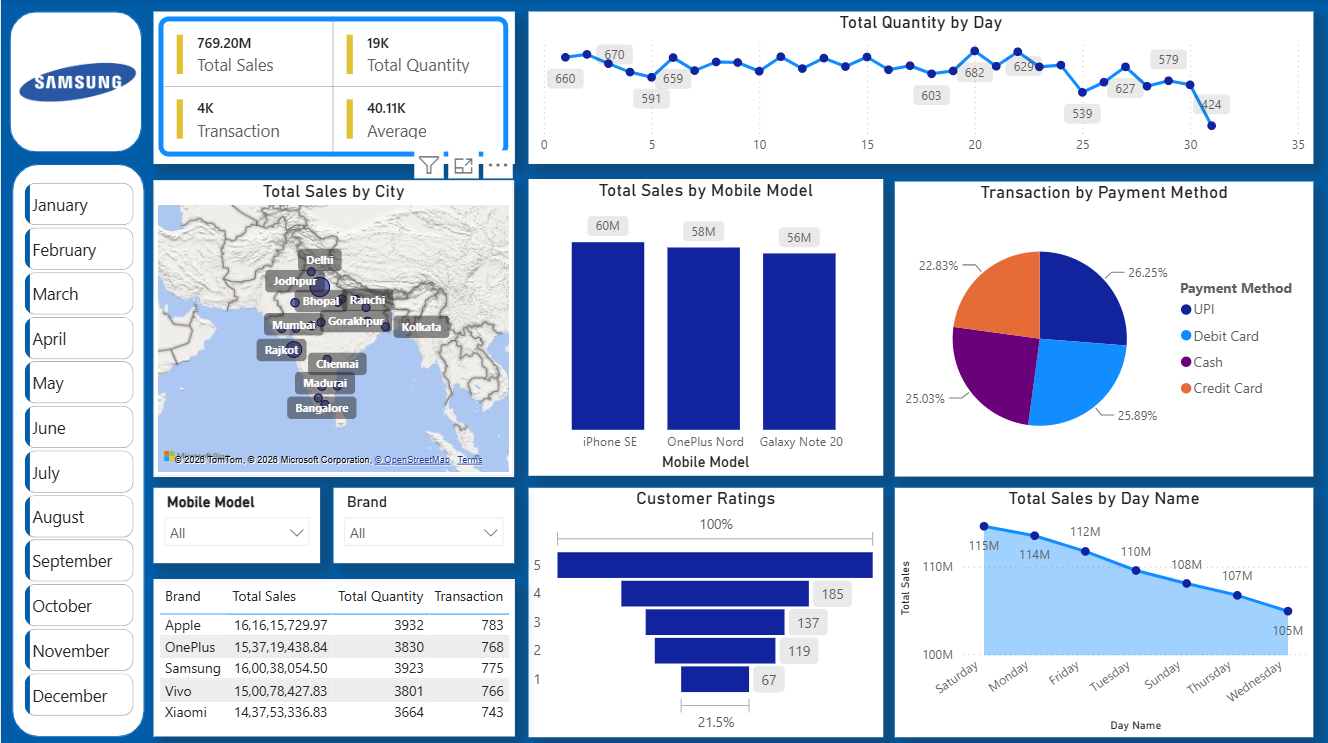

This screenshot's page, from the dashboard's own definition file:
{"tool":"powerbi","page":{"name":"Sales_Project","canvas":[1280,720],"ordinal":0},"visuals":[{"type":"shape","box":[8.2,12.3,127.6,135.8],"z":0},{"type":"shape","box":[11,159.2,127.6,553],"z":1000},{"type":"advancedSlicerVisual","fields":{"Values":["Sales_Project.Date.Variation.Date Hierarchy.Month"]},"box":[17.8,172.9,115.3,525.6],"z":2000},{"type":"cardVisual","fields":{"Data":["Sales_Project.Total Sales","Sales_Project.Total Quantity","Sales_Project.Transaction","Sales_Project.Average"]},"box":[146.8,12.3,348.5,146.8],"z":3000},{"type":"map","fields":{"Category":["Sales_Project.City"],"Size":["Sales_Project.Total Sales"]},"box":[147.1,174.6,347.9,286],"z":4000},{"type":"lineChart","fields":{"Y":["Sales_Project.Total Quantity"],"Category":["Sales_Project.Date.Variation.Date Hierarchy.Month","Sales_Project.Date.Variation.Date Hierarchy.Day"]},"box":[508.8,12.4,757.7,147.1],"z":5000},{"type":"clusteredColumnChart","fields":{"Category":["Sales_Project.Mobile Model"],"Y":["Sales_Project.Total Sales"]},"box":[508.8,173.3,342.4,286],"z":6000},{"type":"pieChart","fields":{"Category":["Sales_Project.Payment Method"],"Y":["Sales_Project.Transaction"]},"box":[862.2,176,404.3,284.7],"z":7000},{"type":"funnel","title":"Customer Ratings ","fields":{"Category":["Sales_Project.Customer Ratings"],"Y":["CountNonNull(Sales_Project.Customer Ratings)"]},"box":[508.8,471.7,342.4,240.7],"z":8000},{"type":"areaChart","fields":{"Category":["Sales_Project.Day Name"],"Y":["Sales_Project.Total Sales"]},"box":[862.2,471.7,404.3,240.7],"z":9000},{"type":"tableEx","fields":{"Values":["Sales_Project.Brand","Sales_Project.Total Sales","Sales_Project.Total Quantity","Sales_Project.Transaction"]},"box":[146.8,559.9,348.5,152.3],"z":10000},{"type":"slicer","fields":{"Values":["Sales_Project.Mobile Model"]},"box":[146.8,472,160.5,72.7],"z":11000},{"type":"slicer","fields":{"Values":["Sales_Project.Brand"]},"box":[321.1,472,174.3,72.7],"z":12000},{"type":"image","box":[11,26.1,126.2,102.9],"z":13000}]}

Visuals, with their boxes in screenshot pixels (x1, y1, x2, y2), scaled from the page's 1280x720 canvas onto the 1328x743 screenshot:
shape: box(9, 13, 141, 153)
shape: box(11, 164, 144, 735)
advancedSlicerVisual - Sales_Project.Date.Variation.Date Hierarchy.Month: box(18, 178, 138, 721)
cardVisual - Sales_Project.Total Sales x Sales_Project.Total Quantity: box(152, 13, 514, 164)
map - Sales_Project.City x Sales_Project.Total Sales: box(153, 180, 514, 475)
lineChart - Sales_Project.Total Quantity x Sales_Project.Date.Variation.Date Hierarchy.Month: box(528, 13, 1314, 165)
clusteredColumnChart - Sales_Project.Mobile Model x Sales_Project.Total Sales: box(528, 179, 883, 474)
pieChart - Sales_Project.Payment Method x Sales_Project.Transaction: box(895, 182, 1314, 475)
"Customer Ratings " funnel: box(528, 487, 883, 735)
areaChart - Sales_Project.Day Name x Sales_Project.Total Sales: box(895, 487, 1314, 735)
tableEx - Sales_Project.Brand x Sales_Project.Total Sales: box(152, 578, 514, 735)
slicer - Sales_Project.Mobile Model: box(152, 487, 319, 562)
slicer - Sales_Project.Brand: box(333, 487, 514, 562)
image: box(11, 27, 142, 133)
